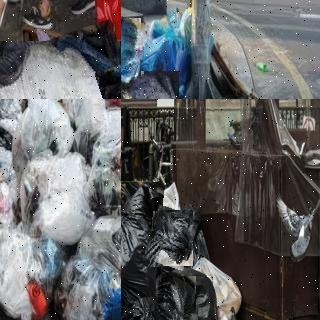Garbage: (0, 29, 121, 99), (17, 148, 96, 242), (56, 212, 121, 320), (0, 219, 61, 320), (121, 181, 162, 308), (123, 271, 202, 320), (147, 208, 197, 269), (142, 28, 186, 89), (169, 267, 218, 320), (121, 16, 146, 92), (130, 69, 186, 99), (0, 178, 17, 261)
